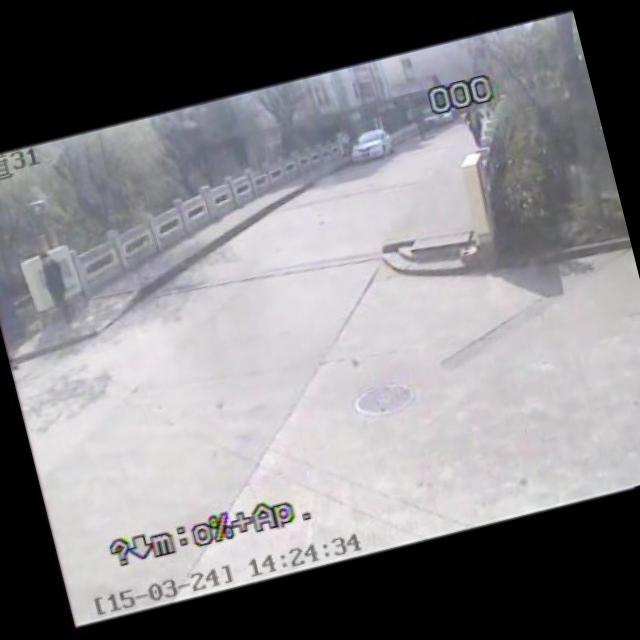person: (33, 248, 82, 328), (462, 102, 494, 148), (336, 131, 358, 155)
